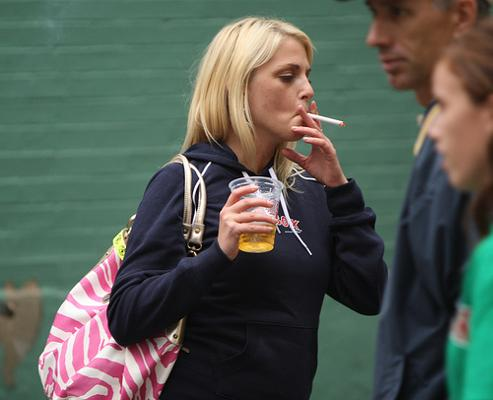person: (105, 11, 391, 400)
